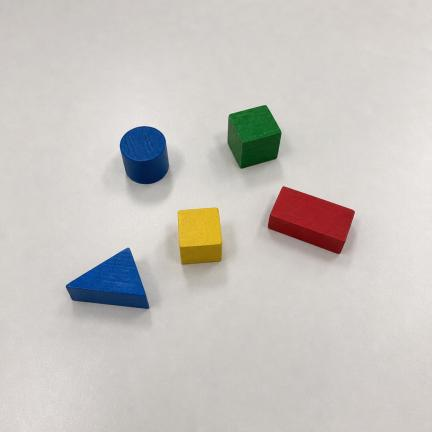BuildingBlocks: (268, 187, 354, 253), (67, 249, 148, 308), (228, 106, 282, 169), (120, 127, 168, 183), (178, 208, 222, 264)
